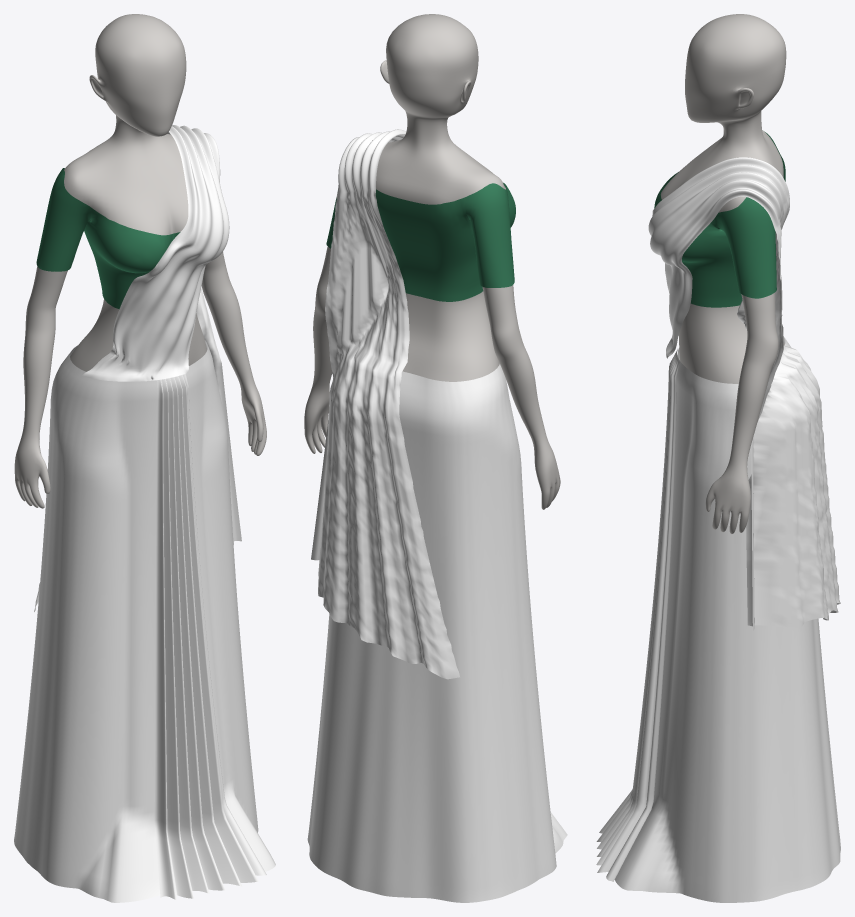
File: saree_showroom.glb
The picture shows the model from 3 angles, left to right: view 1: azimuth 30°, elevation 25°; view 2: azimuth 150°, elevation 25°; view 3: azimuth 270°, elevation 25°; orthographic projection.
Visible parts, largest first — view 1: Saree, Mannequin, Blouse; view 2: Saree, Mannequin, Blouse; view 3: Saree, Mannequin, Blouse.
Part boxes in pixels (x1,y1,x2,y2): Saree: (14, 125, 275, 902); Mannequin: (14, 14, 266, 508); Blouse: (36, 168, 180, 309); Saree: (307, 129, 567, 902); Mannequin: (304, 14, 560, 509); Blouse: (326, 182, 515, 301); Saree: (596, 157, 840, 902); Mannequin: (660, 14, 786, 534); Blouse: (654, 131, 785, 307).
Bounding box in the file's own units: 0.5036 × 1.65 × 0.4383.
